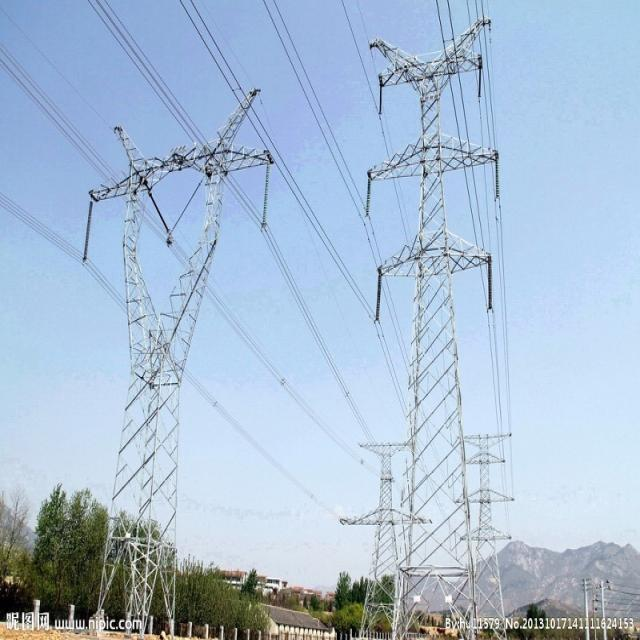non-critical vegetation: (76, 96, 236, 592), (366, 21, 496, 608)
